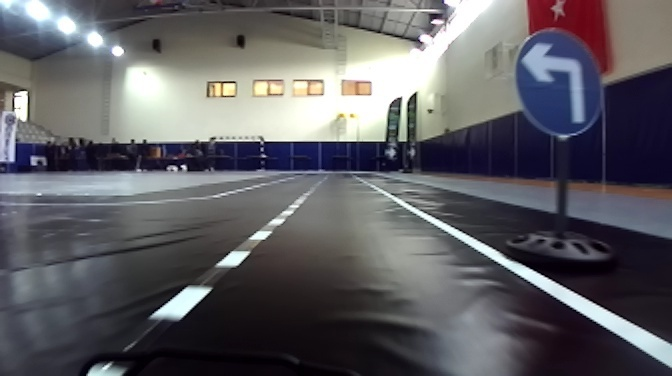sola_donus: (513, 32, 610, 134)
